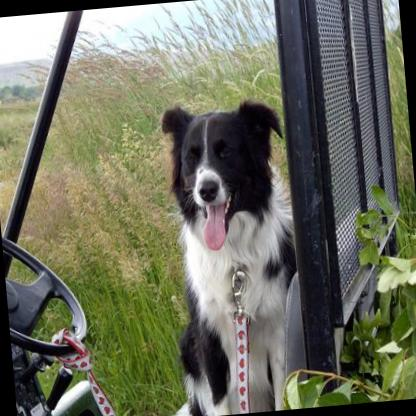collie: (146, 89, 310, 416)
